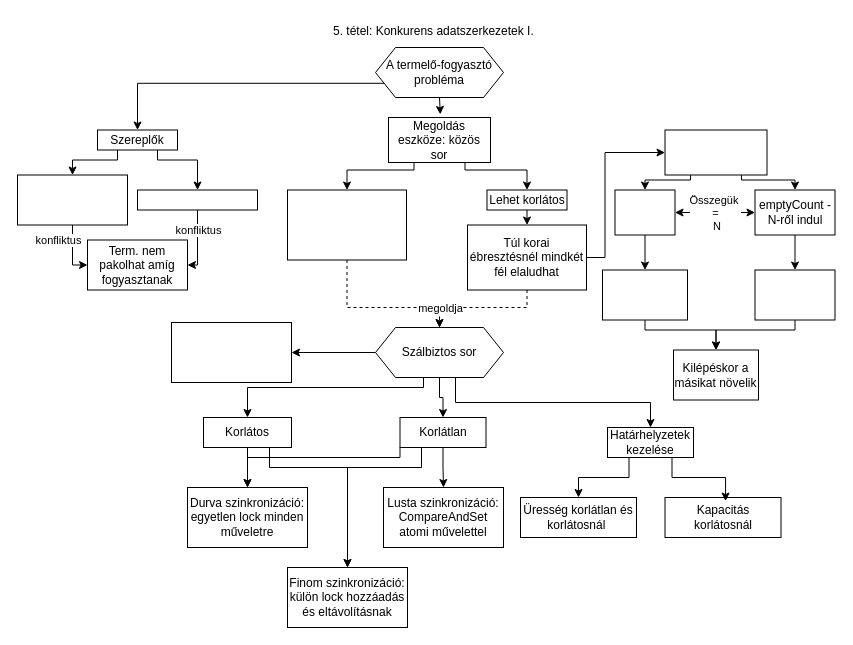
The diagram is 853 pixels wide and 645 high, and some of its shapes have lost their labels. The shapes that lost their labels are listed below. From the top down, each one's centre as x and y in pixels, then its label:
At [715,152]: "Szemafor segítségével elkerülhető".
At [72,199]: "Termelő: elemeket helyez egy közös tárolóba".
At [197,199]: "Fogyasztó: kiveszi".
At [644,212]: "fillCount - 0-ról indul".
At [346,224]: "Ha nem egy termelő és fogyasztó van versenyhelyzet alakulhat ki".
At [645,294]: "Fogyasztó ezen keresztül jut be".
At [794,294]: "Termelő ezen keresztül jut be".
At [231,352]: "Szálbiztos: több szál szimultán kérésére is versenyhelyzettől mentes".
